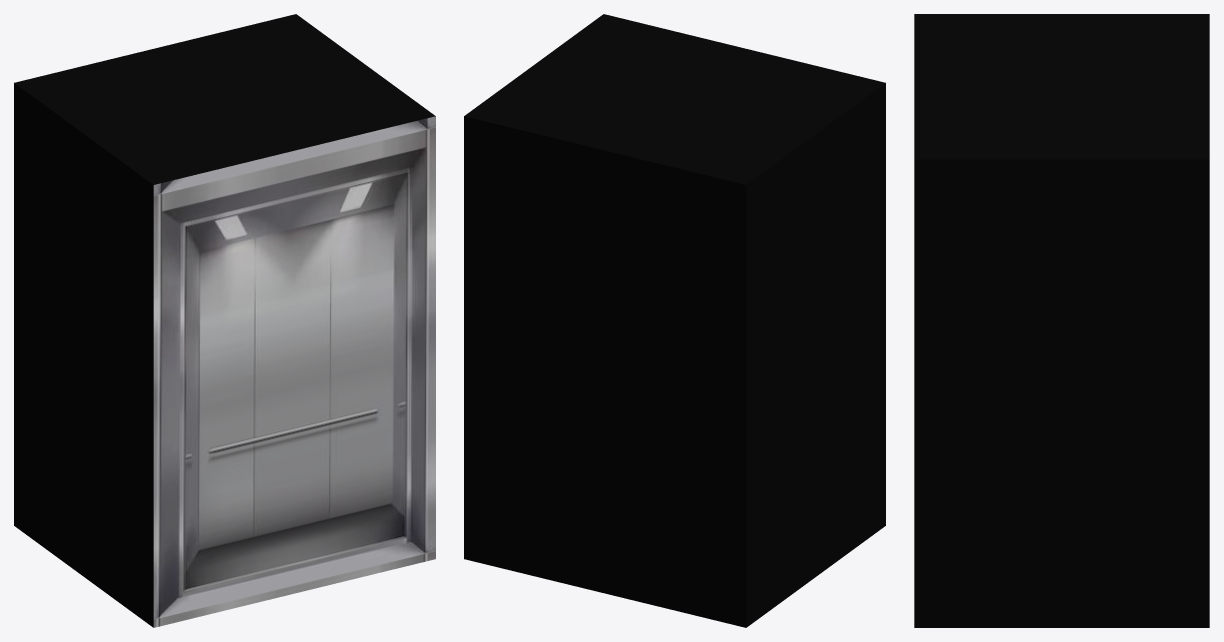
The model's file is w_highway_elevator.glb.
The picture shows the model from 3 angles, left to right: view 1: azimuth 30°, elevation 25°; view 2: azimuth 150°, elevation 25°; view 3: azimuth 270°, elevation 25°; orthographic projection. The views are drawn at different scales.
Visible parts, largest first — view 1: Cube; view 2: Cube; view 3: Cube.
Boxes of the visible parts, left/top/right/bottom form: Cube: left=14, top=14, right=435, bottom=627; Cube: left=464, top=14, right=885, bottom=627; Cube: left=914, top=14, right=1209, bottom=627.
Bounding box in the file's own units: 2.8 × 4.2 × 2.4.
2 materials, 1 textured.
